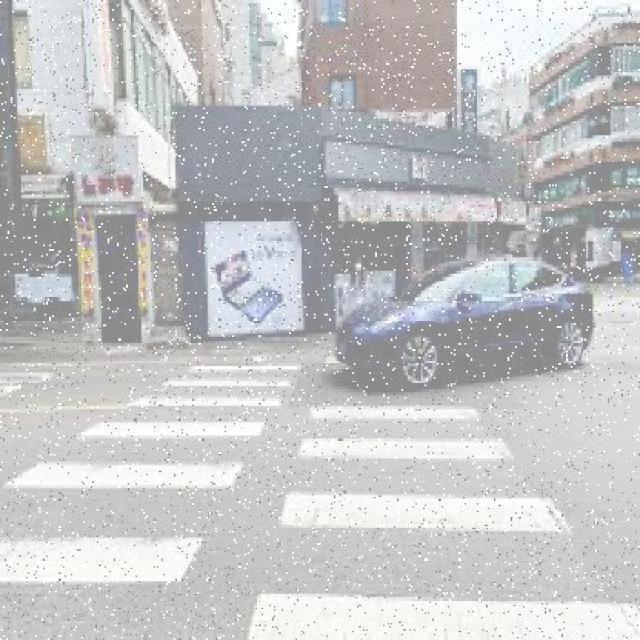crosswalk: (250, 372, 639, 637), (0, 356, 305, 585)
